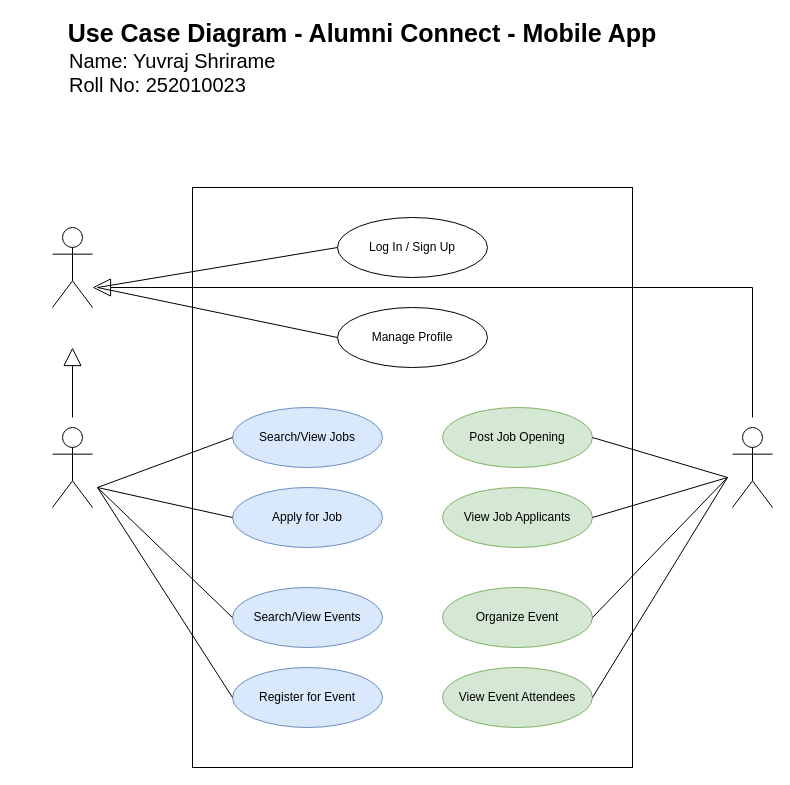
The diagram is 790 pixels wide and 785 high, and some of its shapes have lost their labels. The shapes that lost their labels are listed below. From the top down, each one's centre as x and y in pixels, then its label:
At point 72,267: "User (Abstract)".
At point 72,467: "Student".
At point 752,467: "Alumni".
